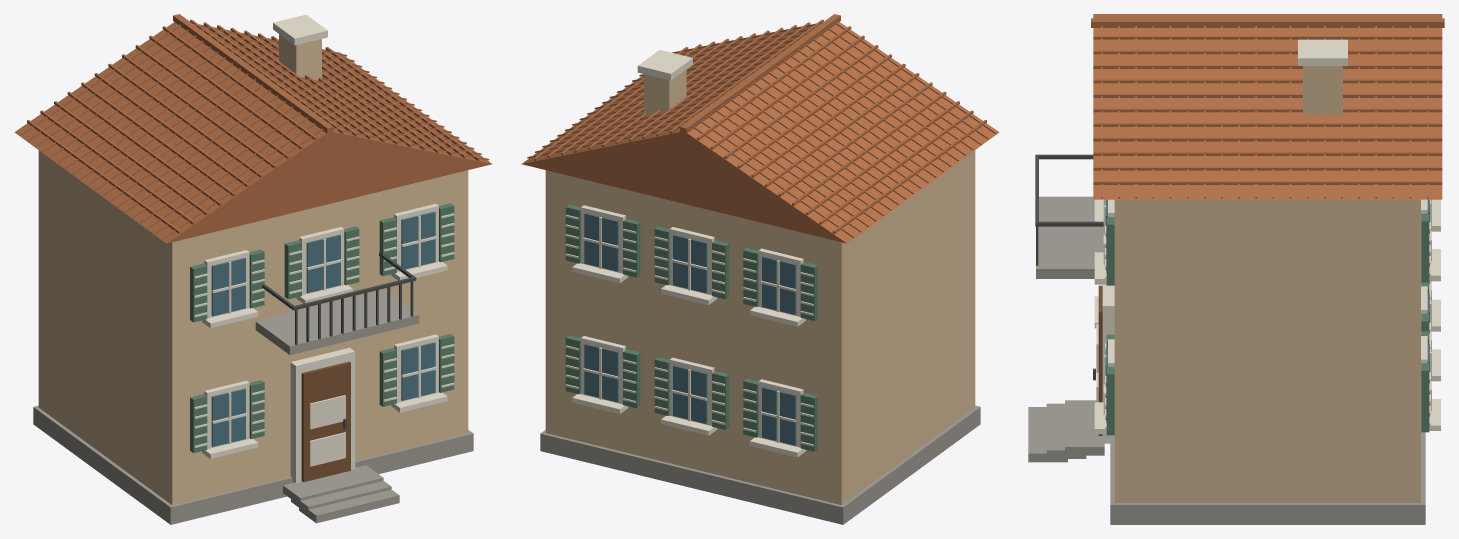
The model's file is villa-1.glb.
3 renders of one model, left to right at view 1: azimuth 30°, elevation 25°; view 2: azimuth 150°, elevation 25°; view 3: azimuth 270°, elevation 25°, orthographic. The views are drawn at different scales.
Parts seen in each view (by area): view 1: villa-1; view 2: villa-1; view 3: villa-1.
Boxes of the visible parts, box(x1,y1,x2,y2) form: villa-1: box(14, 14, 492, 524); villa-1: box(521, 14, 999, 524); villa-1: box(1028, 14, 1444, 524).
Bounding box in the file's own units: 7.06 × 7.77 × 6.8.
